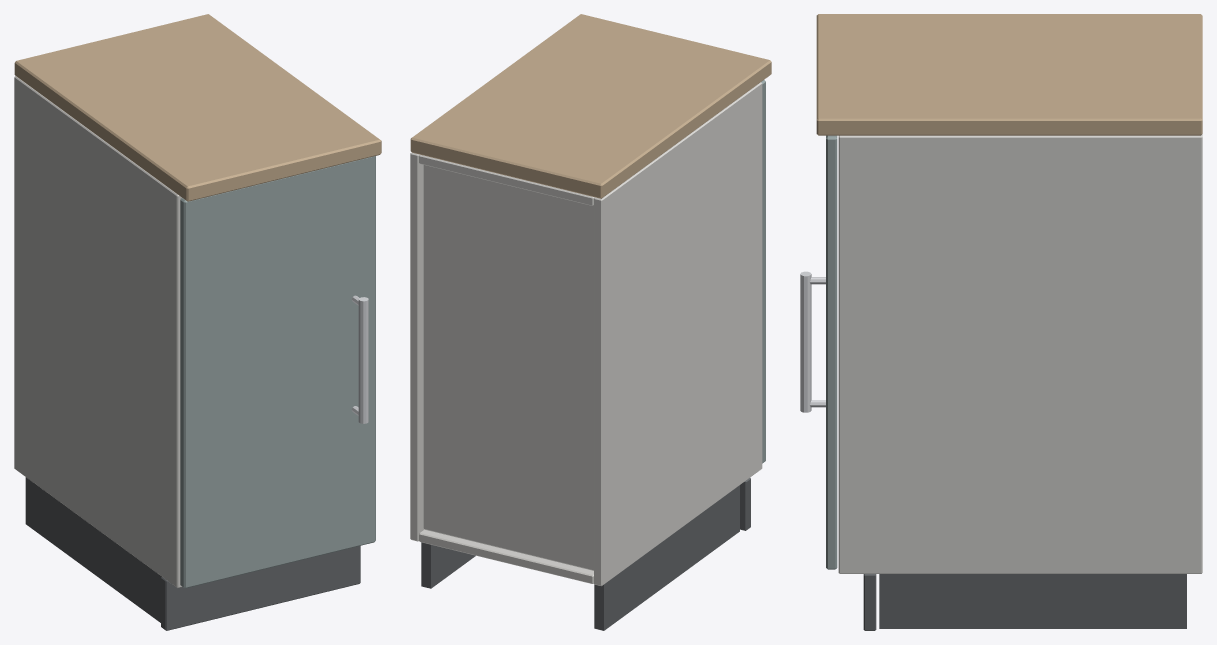
Rendered from kbase.glb.
3 renders of one model, left to right at view 1: azimuth 30°, elevation 25°; view 2: azimuth 150°, elevation 25°; view 3: azimuth 270°, elevation 25°, orthographic. The views are drawn at different scales.
Visible parts, largest first — view 1: base-400, door-left/front, door-left/metal; view 2: base-400, door-left/front; view 3: base-400, door-left/front, door-left/metal.
Boxes of the visible parts, x1,y1,x2,y2 form: base-400: (14,14,381,630); door-left/front: (180,156,375,588); door-left/metal: (351,295,368,423); base-400: (410,14,771,630); door-left/front: (761,80,765,463); base-400: (816,14,1202,630); door-left/front: (826,135,837,569); door-left/metal: (800,271,825,412).
Size of the model in its own units: 0.4 by 0.9 by 0.641.
